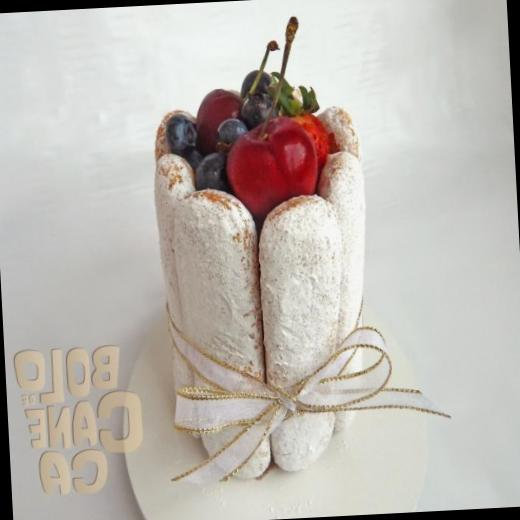Orange: (193, 151, 231, 194), (242, 91, 282, 127), (166, 113, 196, 151), (216, 119, 248, 148), (240, 68, 274, 94), (185, 150, 204, 170)
